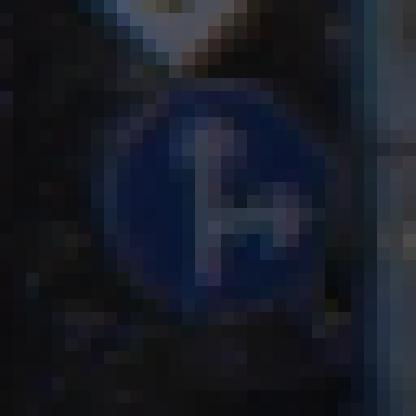Straight or Right: (79, 66, 352, 352)
